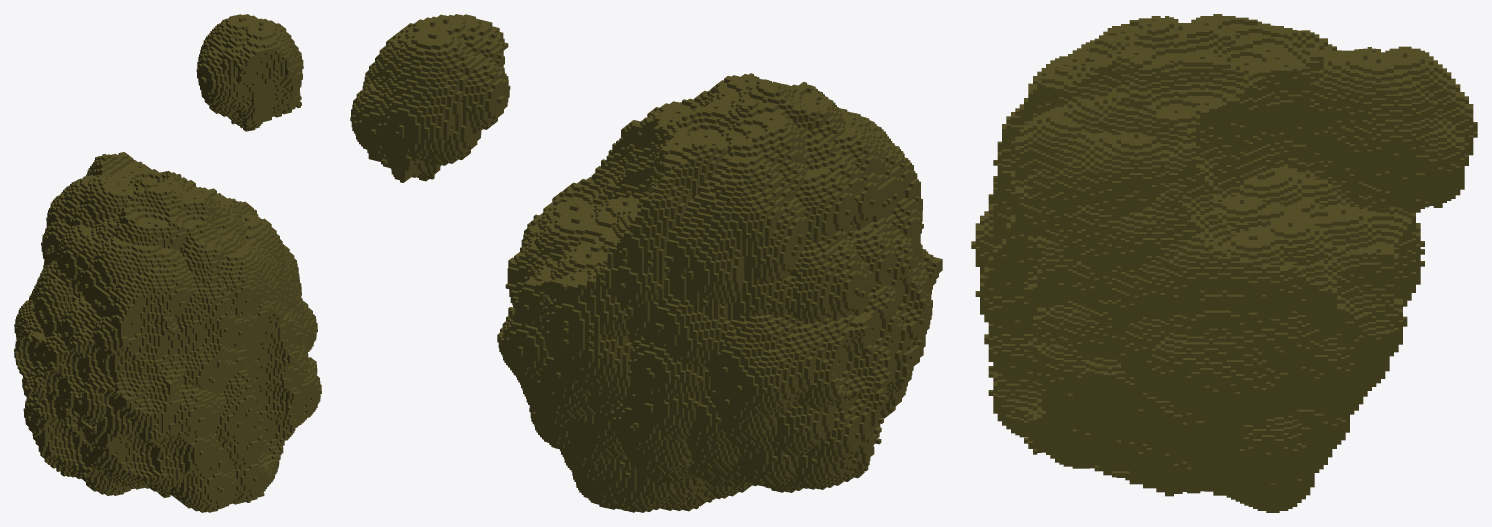
Rendered from Asteroid4.fbx.
3 renders of one model, left to right at view 1: azimuth 30°, elevation 25°; view 2: azimuth 150°, elevation 25°; view 3: azimuth 270°, elevation 25°, orthographic. The views are drawn at different scales.
Visible parts, largest first — view 1: VoxVR Model; view 2: VoxVR Model; view 3: VoxVR Model.
Part boxes in pixels (box(x1,y1,x2,y2)): VoxVR Model: box(14, 14, 321, 512); VoxVR Model: box(350, 14, 942, 512); VoxVR Model: box(971, 14, 1477, 512).
Size of the model in its own units: 1256 by 1359 by 1193.
